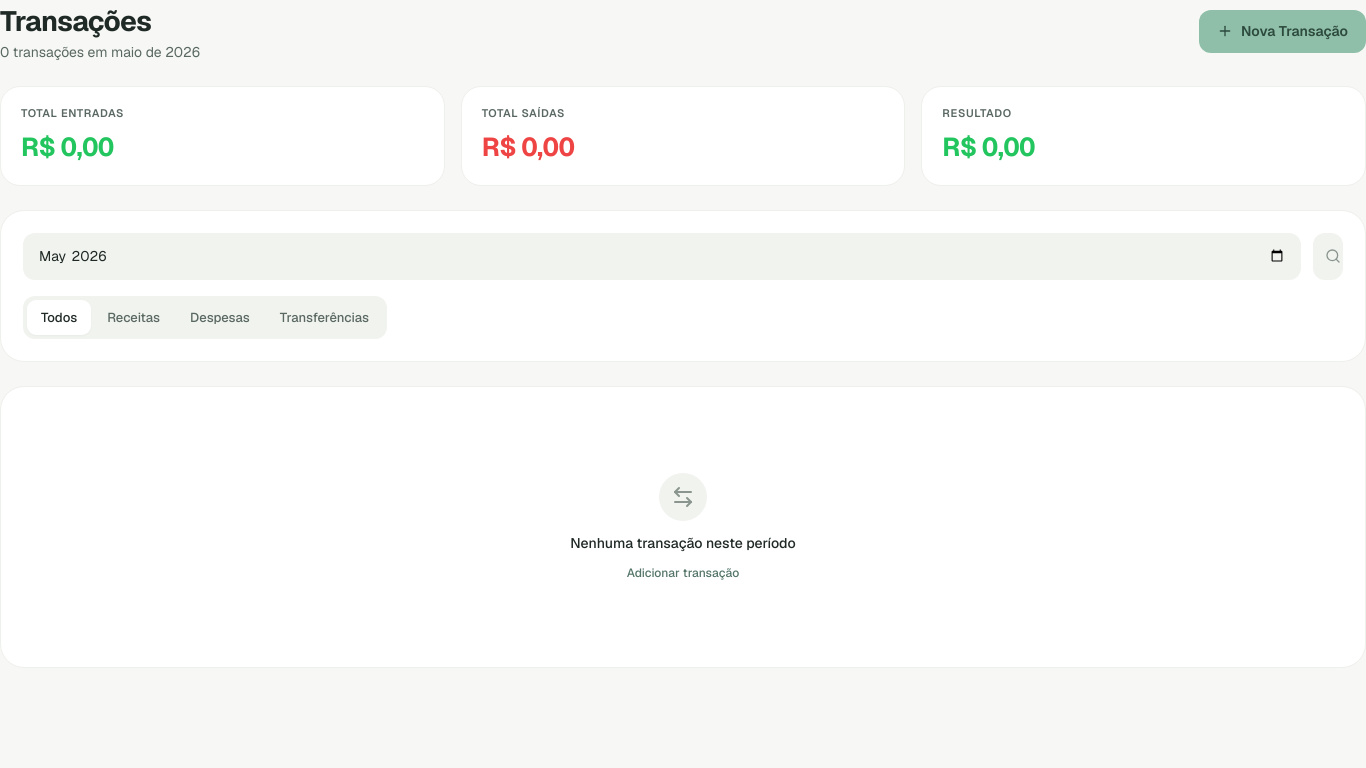
Test case: TransactionsClient › shows form when clicking add button
Click the button "Nova Transação".
click(1282, 31)  # box [1199,10,1365,52]
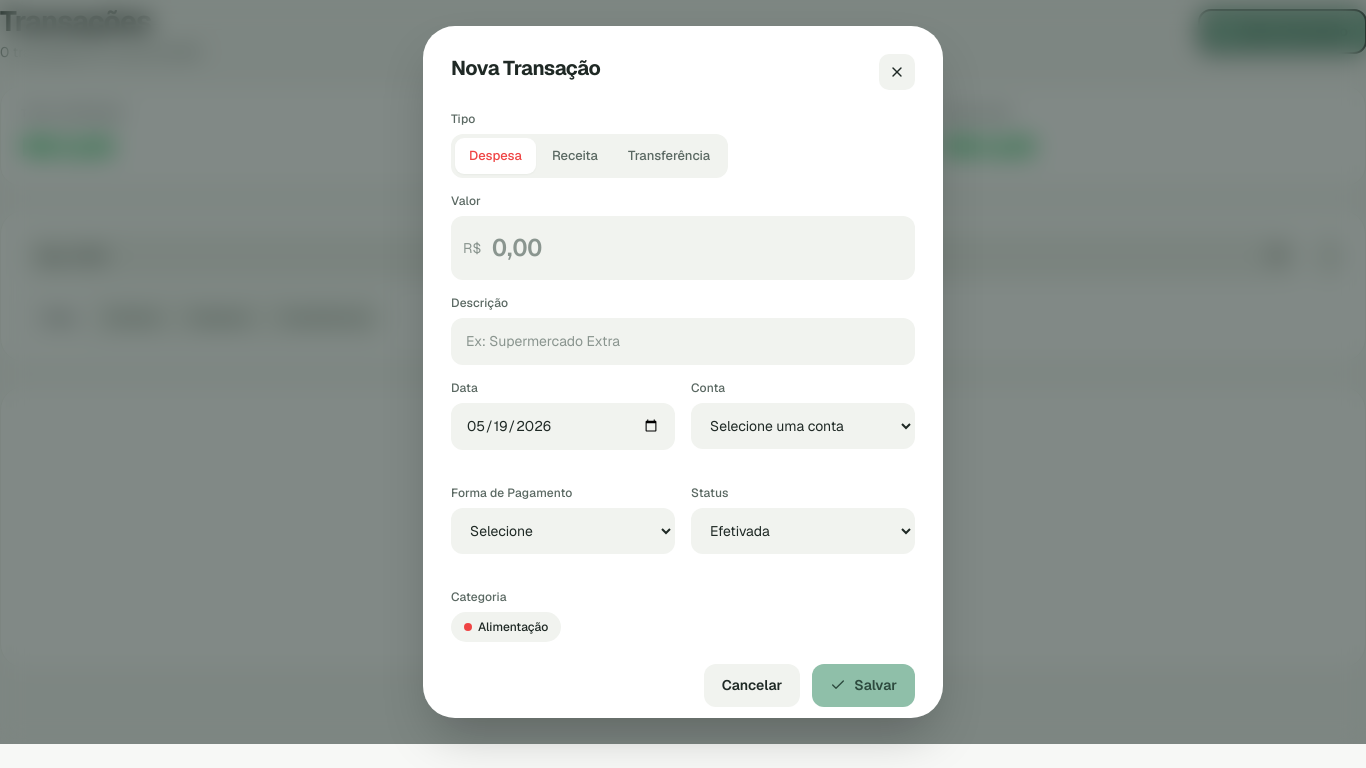
Check: the heading "Nova Transação" is shown, box [451,54,600,82]
